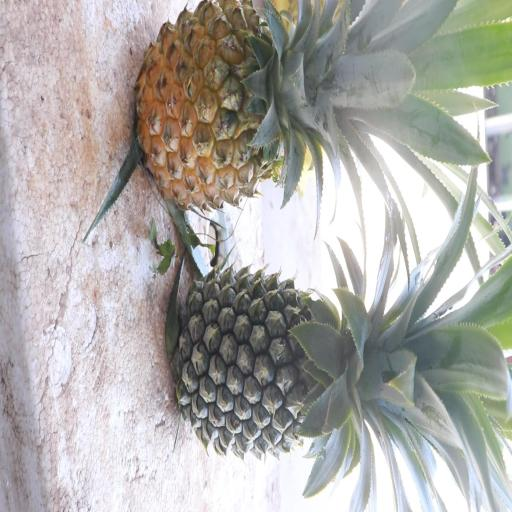Pineapple - v8 v1: (137, 0, 419, 212)
